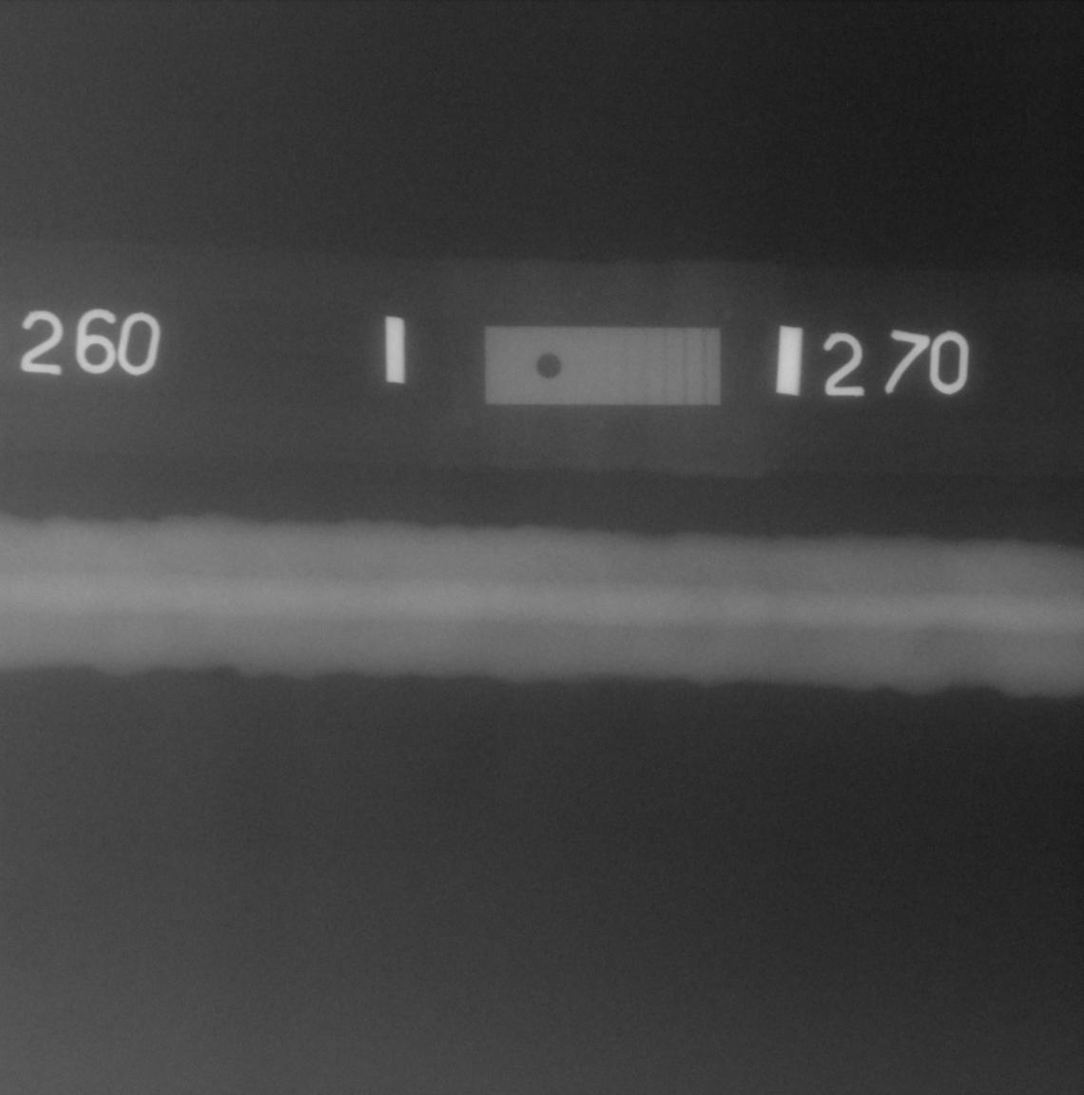Reference Standard 1: (485, 326, 721, 406)
